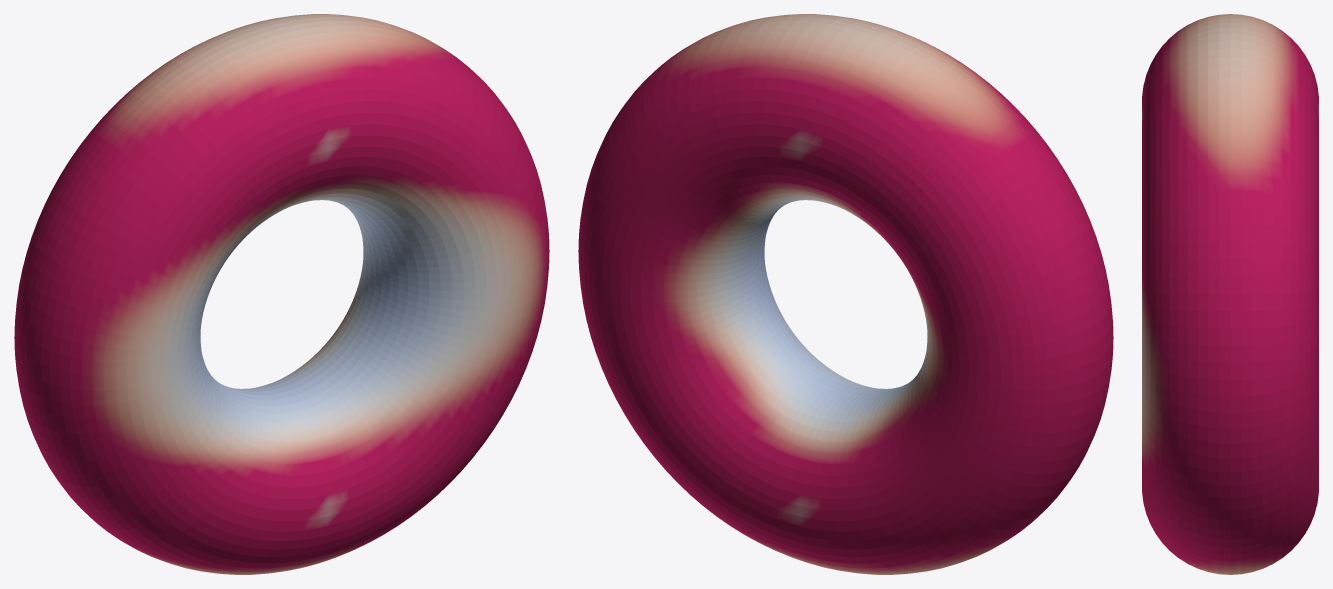
3 renders of one model, left to right at view 1: azimuth 30°, elevation 25°; view 2: azimuth 150°, elevation 25°; view 3: azimuth 270°, elevation 25°, orthographic. The views are drawn at different scales.
Visible parts, largest first — view 1: world; view 2: world; view 3: world.
Boxes of the visible parts, <box> form: world: <box>14,14,549,574</box>; world: <box>578,14,1113,574</box>; world: <box>1142,14,1318,574</box>.
Bounding box in the file's own units: 28.27 × 28.27 × 8.92.
